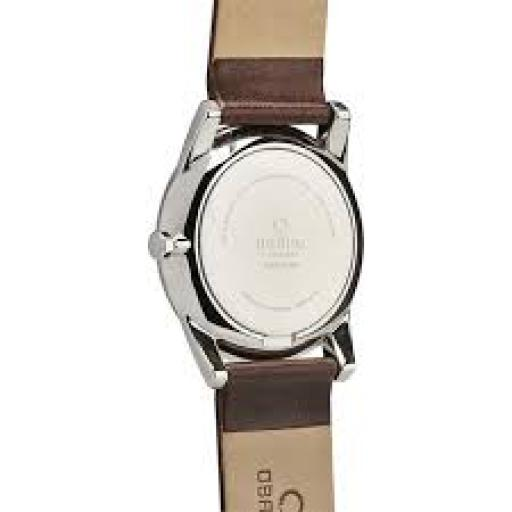KolSaati: (124, 0, 413, 512)
